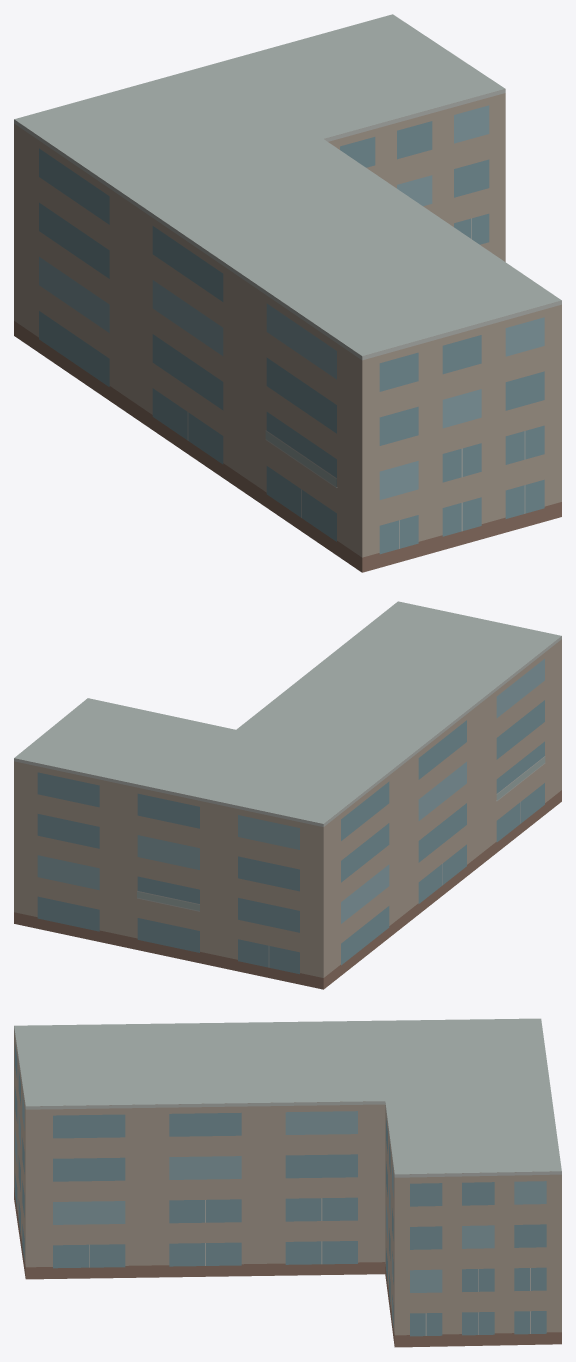
Rendered from survey-upis-32763171.glb.
3 views of the same model, one above another, from view 1: azimuth 30°, elevation 25°; view 2: azimuth 150°, elevation 25°; view 3: azimuth 270°, elevation 25° (orthographic). The views are drawn at different scales.
Parts seen in each view (by area): view 1: survey-upis-32763171.tmp; view 2: survey-upis-32763171.tmp; view 3: survey-upis-32763171.tmp.
Boxes of the visible parts, x1,y1,x2,y2 form: survey-upis-32763171.tmp: [14, 14, 561, 572]; survey-upis-32763171.tmp: [14, 601, 561, 989]; survey-upis-32763171.tmp: [14, 1018, 561, 1347].
Bounding box in the file's own units: 24.36 × 12.6 × 36.17.
